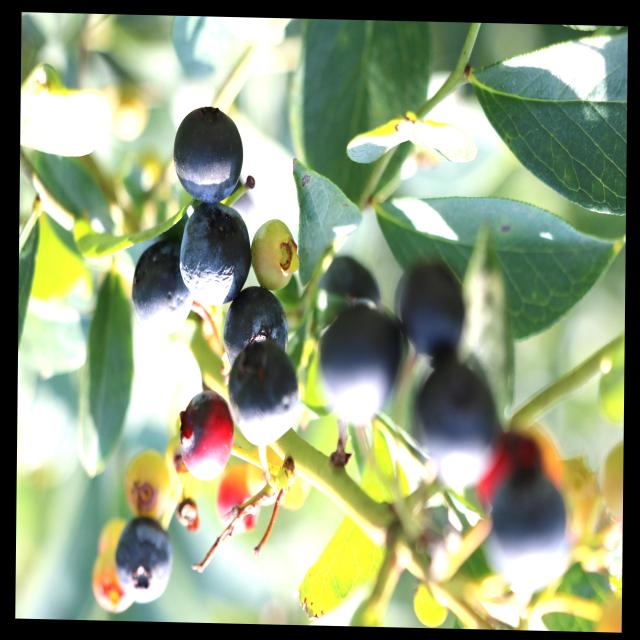blueberry: (311, 293, 411, 432), (411, 351, 506, 496), (484, 468, 571, 588), (224, 332, 304, 452), (386, 250, 468, 363), (180, 199, 256, 310), (170, 101, 246, 208), (129, 230, 196, 342), (220, 281, 293, 373), (111, 511, 176, 608), (312, 247, 386, 316)
blueberry-halfripe: (178, 394, 235, 481), (212, 470, 260, 540)
blueberry-unripe: (119, 442, 175, 522), (246, 218, 300, 295), (90, 540, 140, 620)
